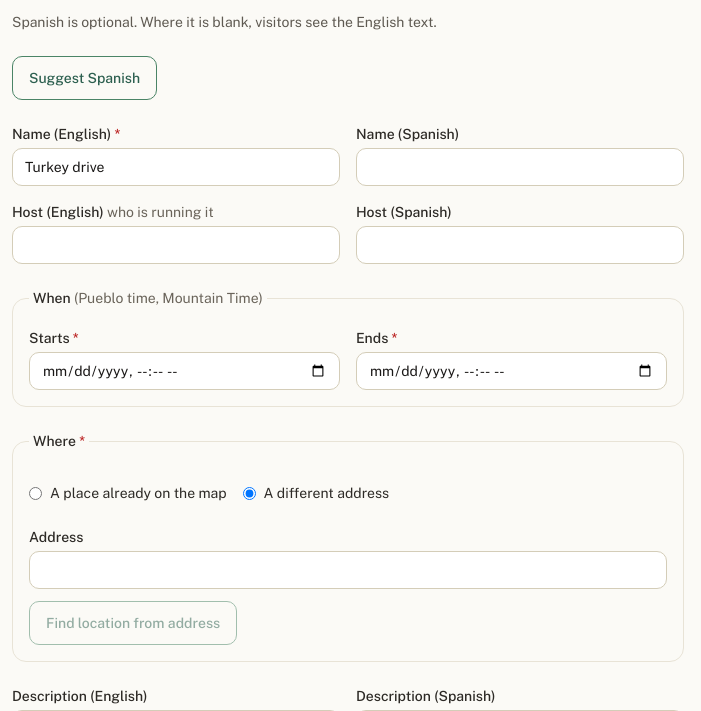
Test case: Suggest Spanish › Spanish typed while the request is in flight is kept
Click the button "Suggest Spanish": click(85, 78) [12,56,157,100]
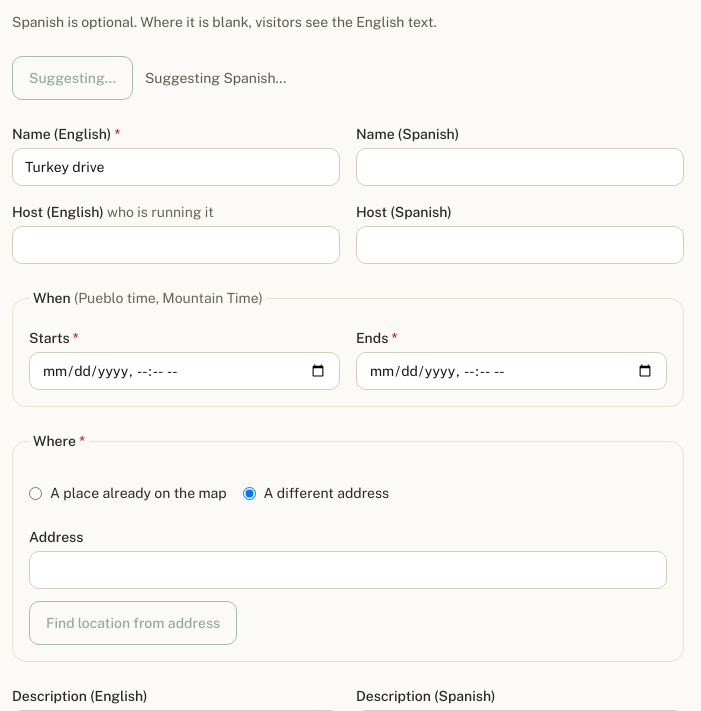
Expected: the button "Suggesting…" is disabled, [12,56,133,100]
In the field labelled "Name (Spanish)": (520, 167) [356,148,684,186], type "Escrito a mano"
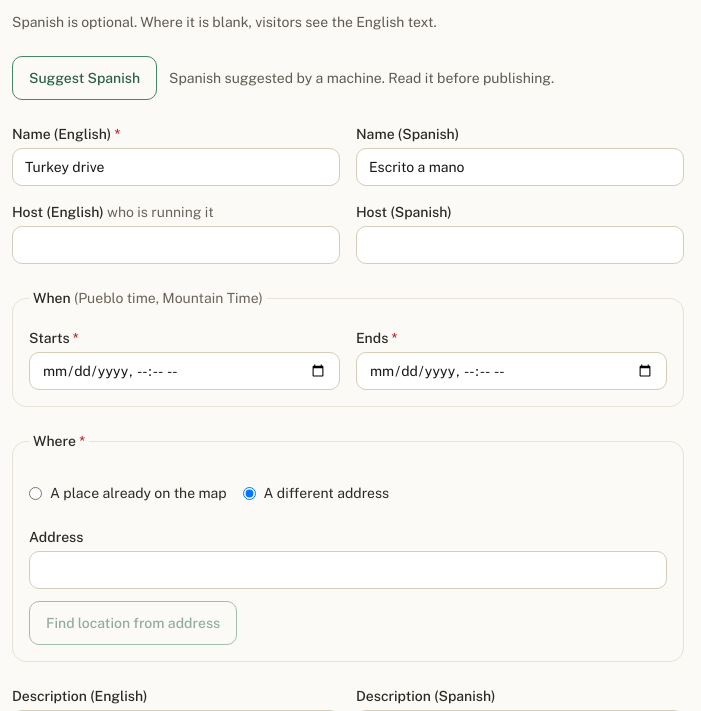
Expected: the button "Suggest Spanish" is enabled, [12,56,157,100]
